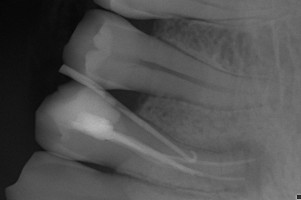Furcation Involvement: (206, 140, 273, 198)
